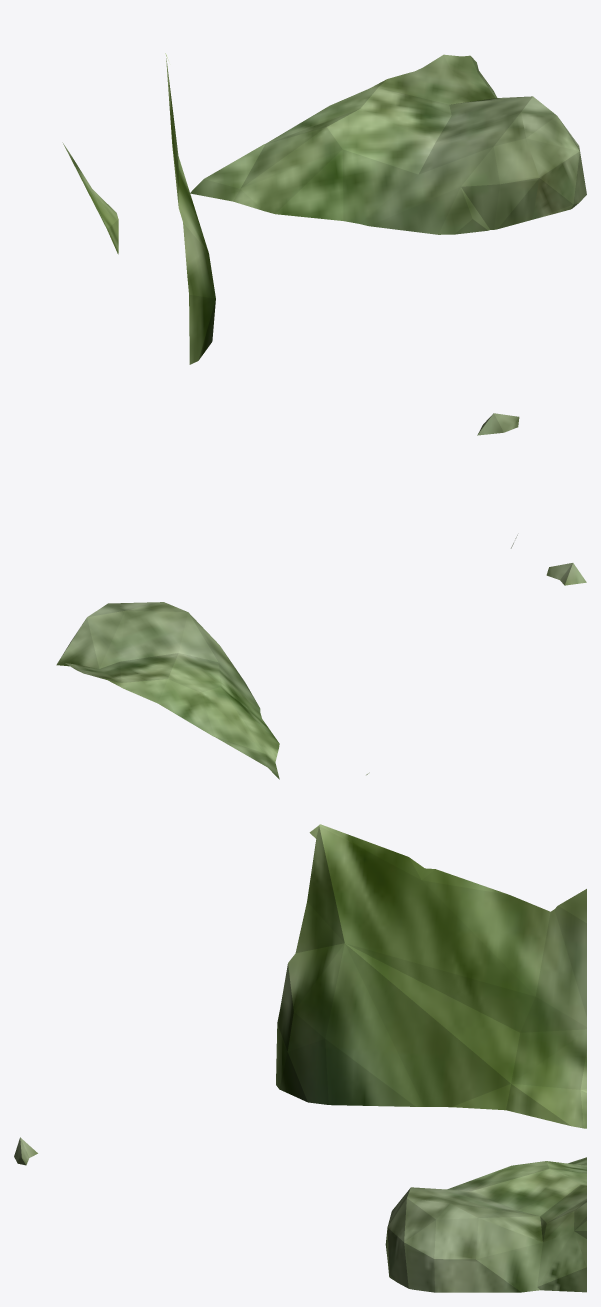
3 renders of one model, top to bottom at view 1: azimuth 30°, elevation 25°; view 2: azimuth 150°, elevation 25°; view 3: azimuth 270°, elevation 25°, orthographic. The views are drawn at different scales.
Bounding box in the file's own units: 1.38 × 0.8055 × 1.6.
Materials: 1 (1 with a texture image).
